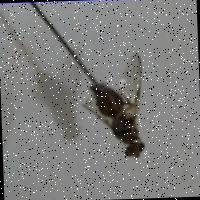Oriental-fruit-fly: (69, 53, 154, 176)
